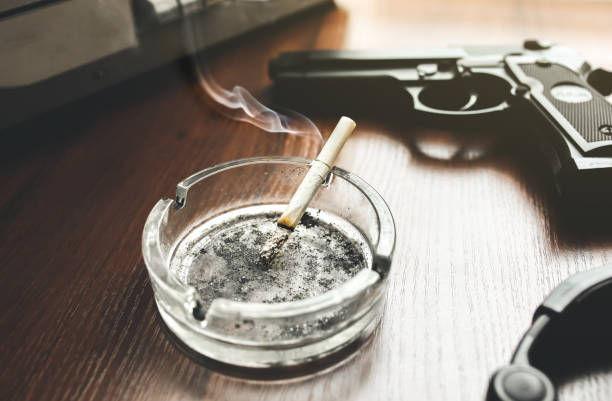cigarette: (261, 111, 358, 267)
gun: (265, 42, 612, 175)
